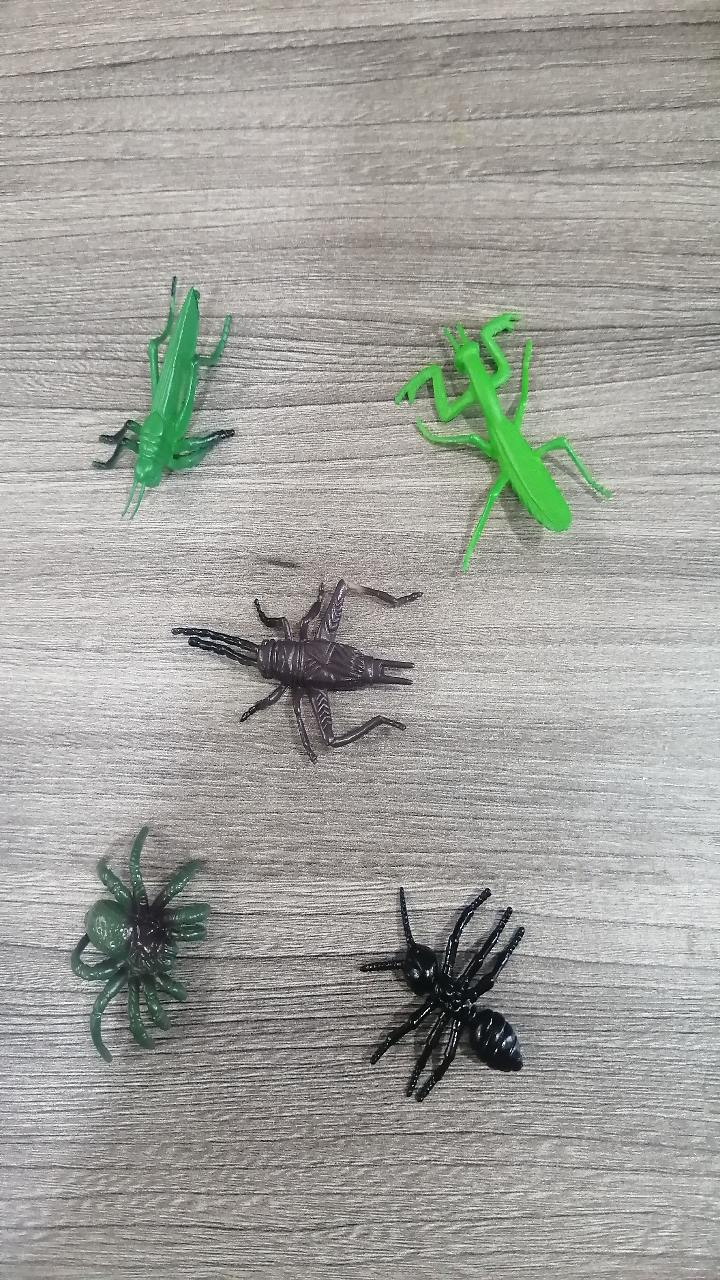intruso: (374, 275, 629, 577), (326, 857, 566, 1123), (157, 575, 451, 768), (64, 254, 269, 528), (23, 819, 252, 1059)
